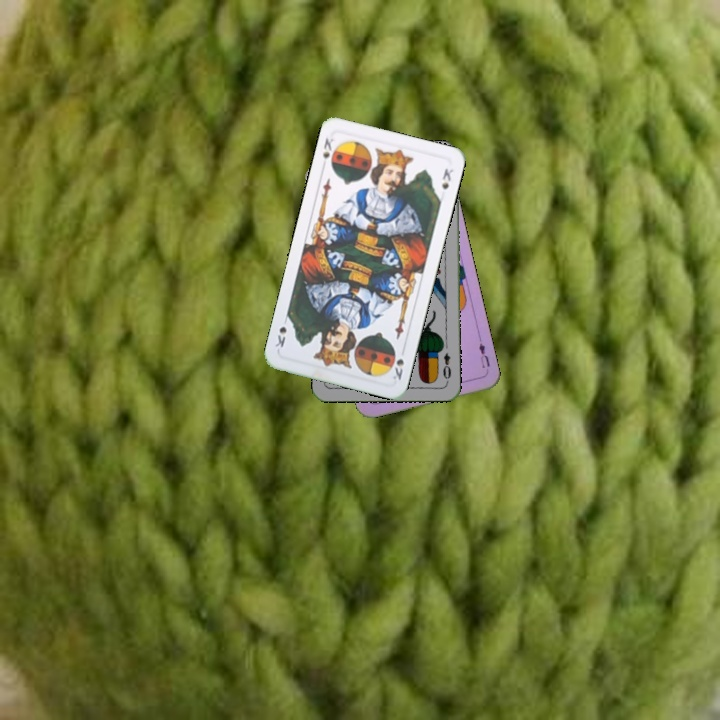EO: (439, 349, 454, 385)
EU: (475, 335, 492, 371)
SK: (389, 355, 407, 383), (318, 134, 336, 161)
